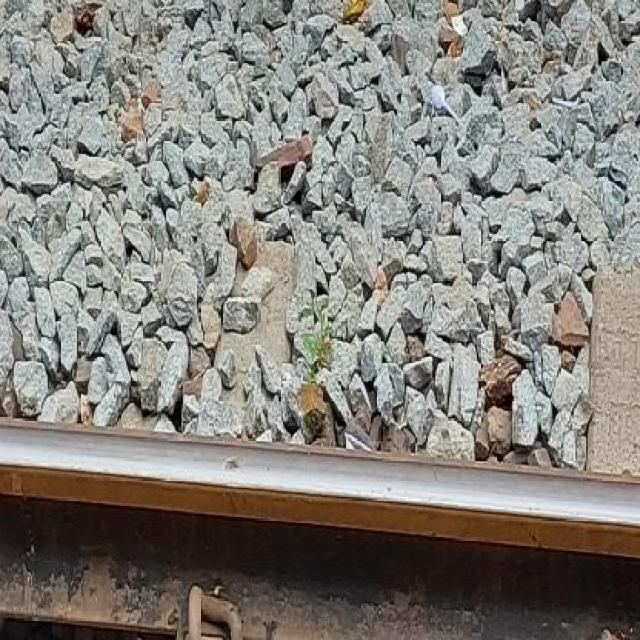non-defective: (0, 424, 640, 554)
